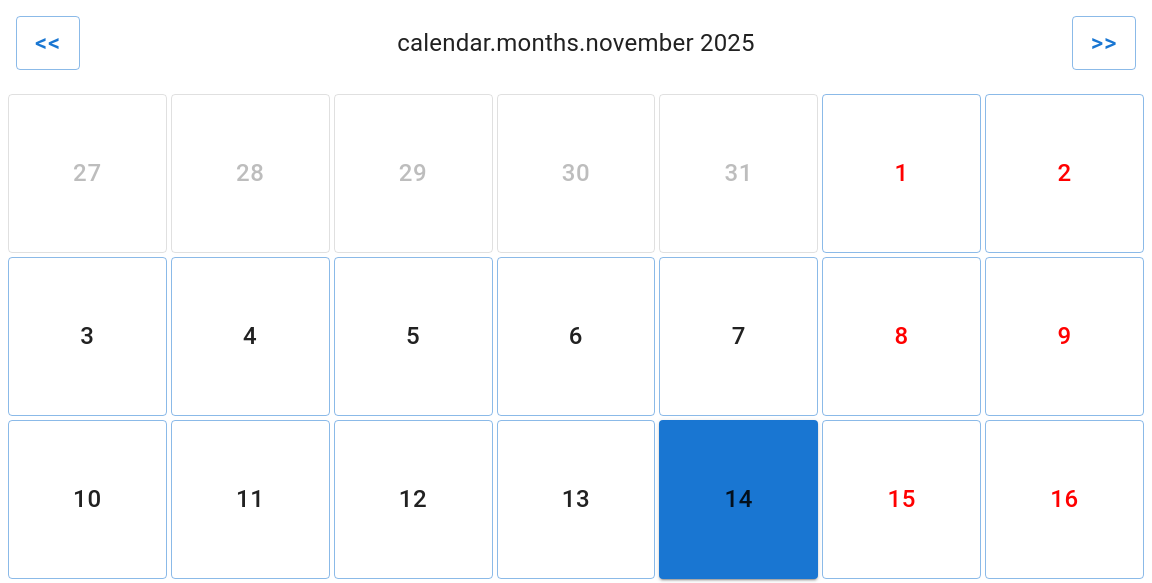
Test: Calendar › next month should work
The width and height of the screenshot is (1152, 583).
Click the button ">>" at (1104, 43), box [1072,16,1136,70]
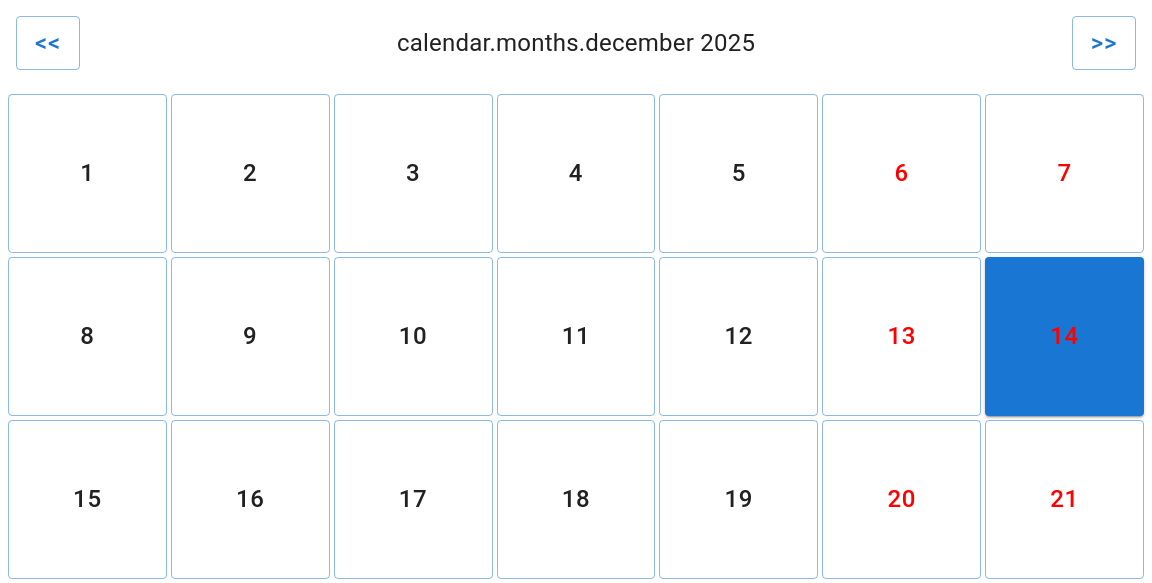
Check: the text "calendar.months.december 2025" is shown, box [381,25,771,61]
